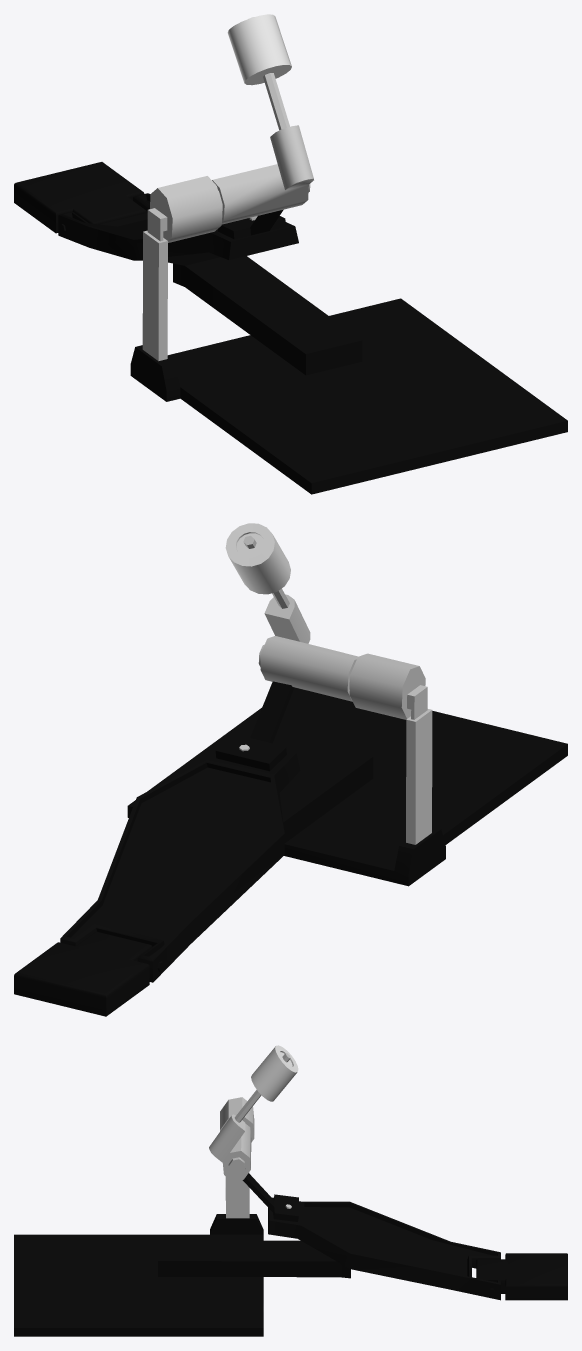
File: SM_Pedal_4k.fbx
3 views of the same model, one above another, from view 1: azimuth 30°, elevation 25°; view 2: azimuth 150°, elevation 25°; view 3: azimuth 270°, elevation 25° (orthographic). The views are drawn at different scales.
Parts seen in each view (by area): view 1: Pedal_4k; view 2: Pedal_4k; view 3: Pedal_4k.
Boxes of the visible parts, bbox=[...] form: Pedal_4k: bbox=[14, 14, 567, 494]; Pedal_4k: bbox=[14, 523, 567, 1016]; Pedal_4k: bbox=[14, 1045, 567, 1336].
Bounding box in the file's own units: 18.67 × 21.19 × 44.36.
Materials: 1 (1 with a texture image).
